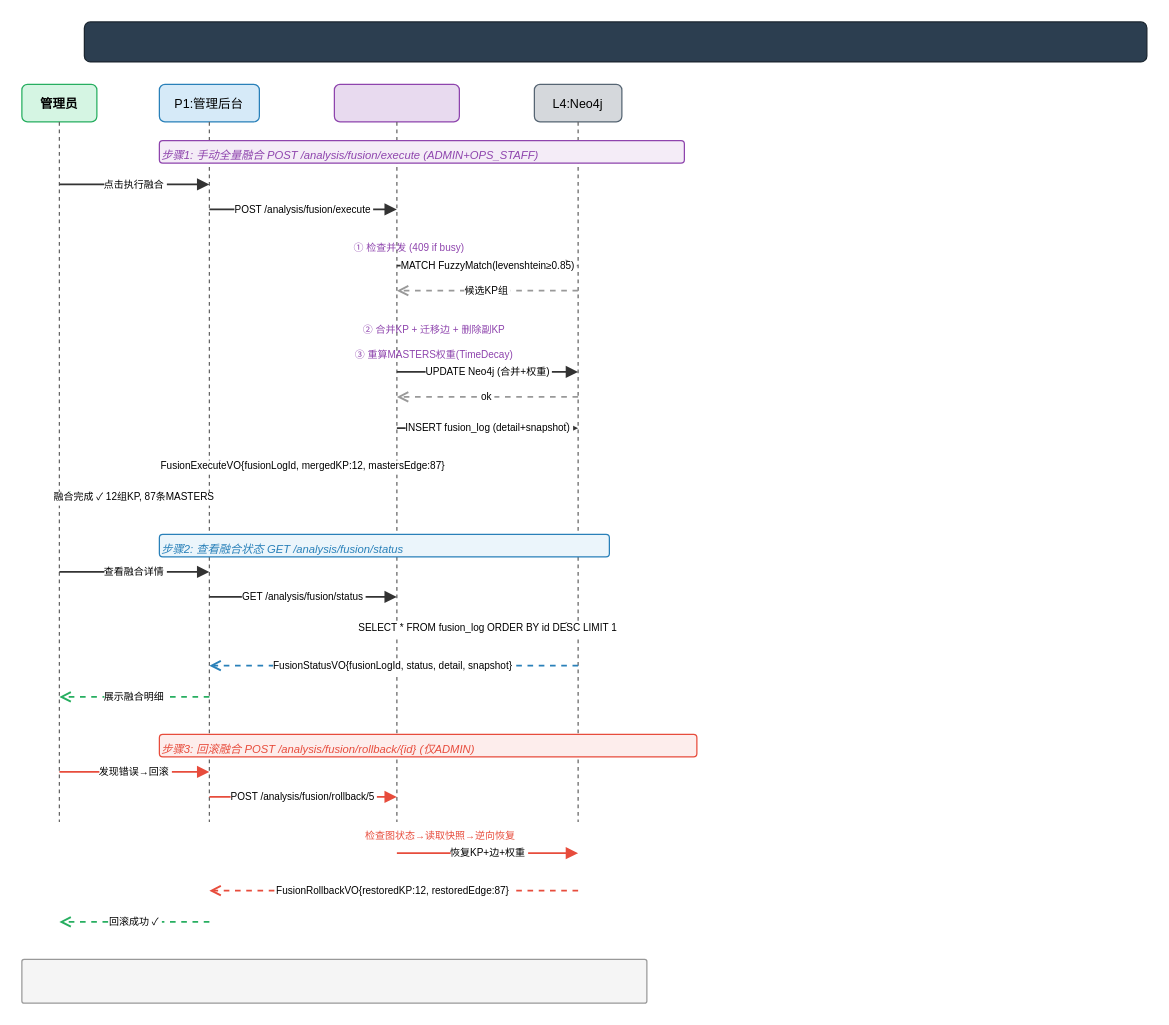
The diagram is 1169 pixels wide and 1025 high, and some of its shapes have lost their labels. The box of each missing label's shape, as (x1, y1, x2, y2) in pixels:
S3 · 宽图谱全量融合 (UC-04, Story 1.3) — 自动全量融合+回滚: (83, 21, 1147, 62)
图分析.实体对齐: (333, 83, 459, 122)
约束: FuzzyMatch阈值0.85 | 并发锁(409) | 仅可回滚最近一次融合 | rollback仅ADMIN: (21, 958, 647, 1003)
